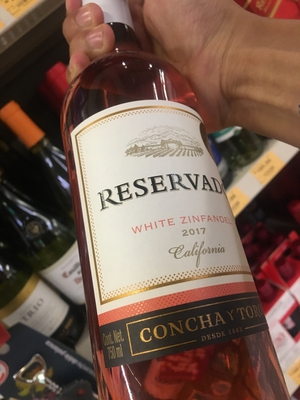reservado white zinfandel: (49, 36, 260, 400)
